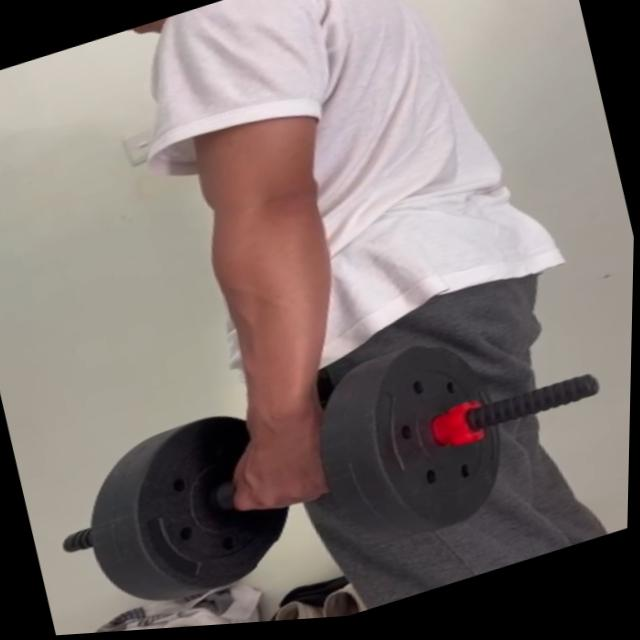hammer: (64, 320, 526, 635)
